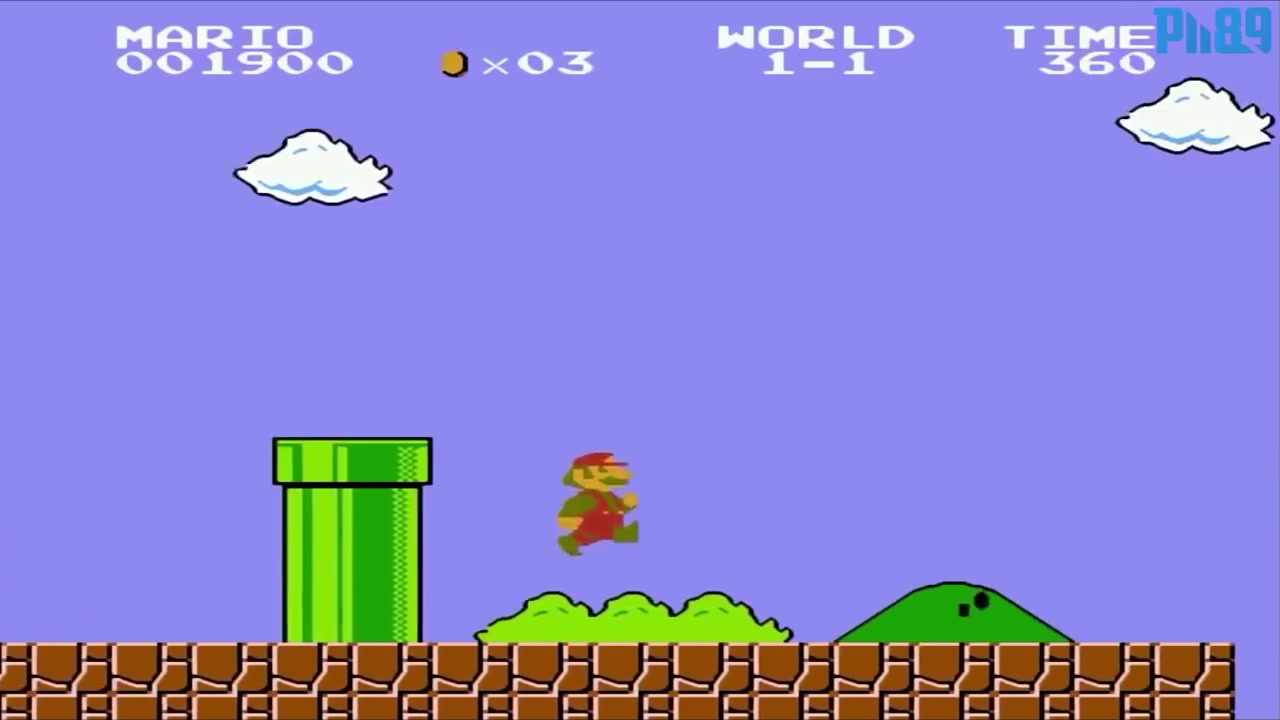mario: (543, 440, 646, 559)
